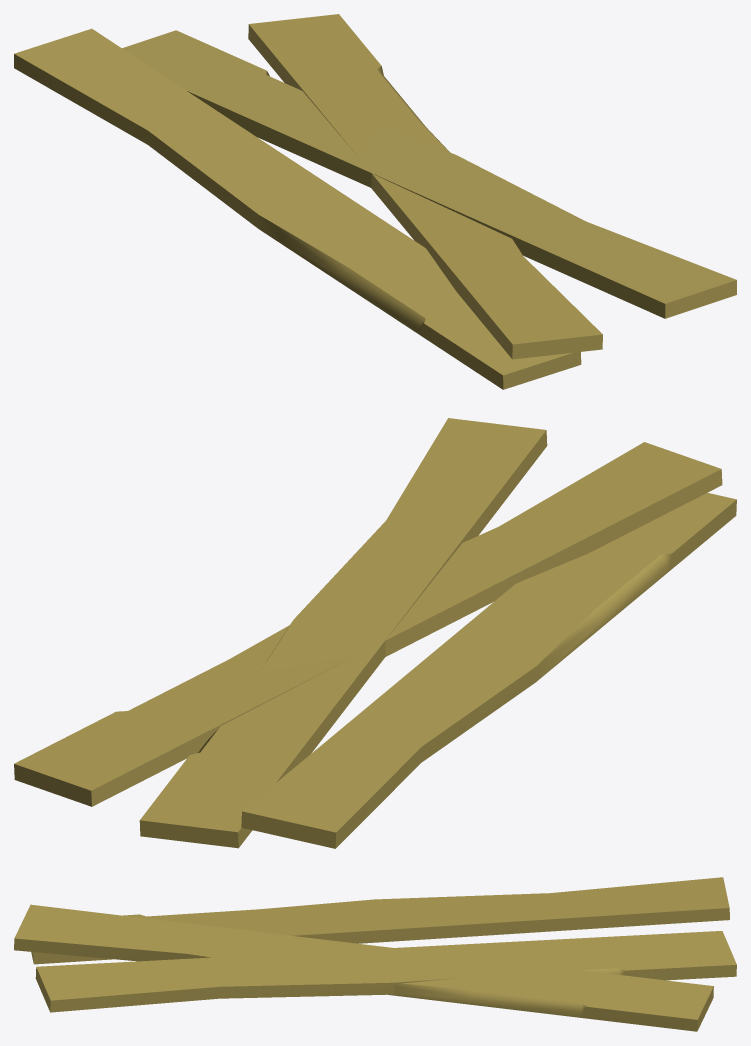
File: WoodenStack.fbx
3 renders of one model, top to bottom at view 1: azimuth 30°, elevation 25°; view 2: azimuth 150°, elevation 25°; view 3: azimuth 270°, elevation 25°, orthographic. The views are drawn at different scales.
Parts seen in each view (by area): view 1: pCube9, pCube10, pCube11; view 2: pCube10, pCube9, pCube11; view 3: pCube10, pCube11, pCube9.
Boxes of the visible parts, bbox=[...] form: pCube9: bbox=[14, 28, 581, 389]; pCube10: bbox=[122, 30, 736, 318]; pCube11: bbox=[248, 14, 602, 359]; pCube10: bbox=[139, 418, 547, 848]; pCube9: bbox=[241, 493, 736, 848]; pCube11: bbox=[14, 442, 722, 806]; pCube10: bbox=[35, 931, 736, 1012]; pCube11: bbox=[14, 904, 713, 1031]; pCube9: bbox=[31, 877, 729, 964].
Bounding box in the file's own units: 1.31 × 0.1666 × 3.25.
